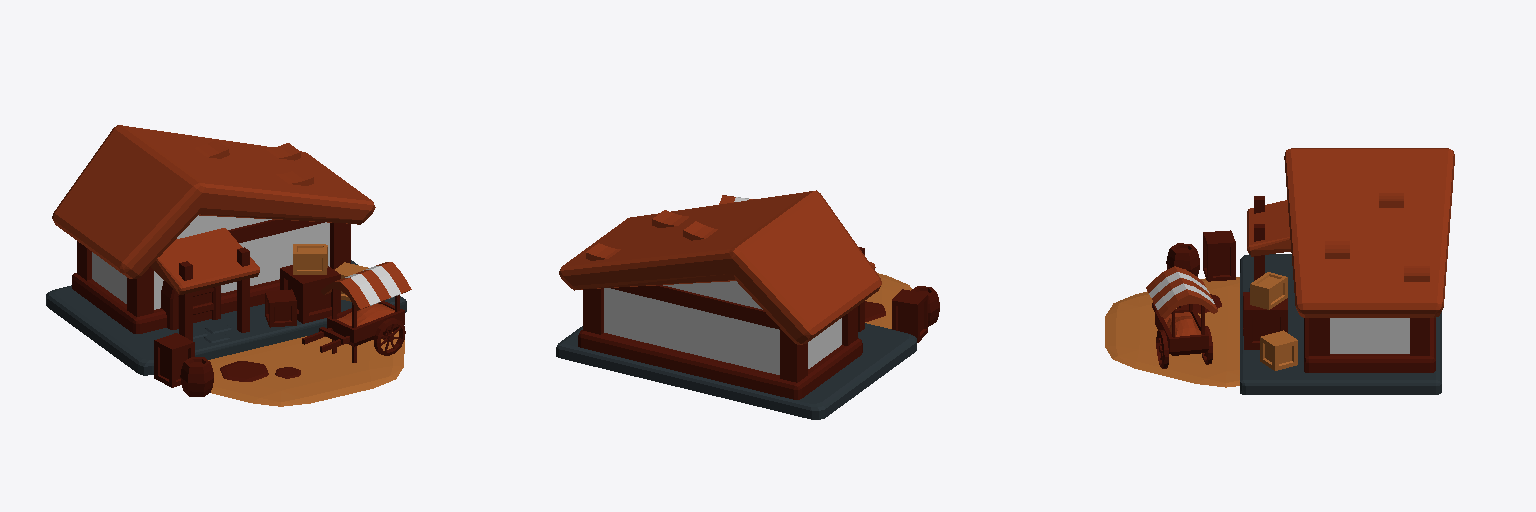
The model's file is market.obj.
3 renders of one model, left to right at view 1: azimuth 30°, elevation 25°; view 2: azimuth 150°, elevation 25°; view 3: azimuth 270°, elevation 25°, orthographic.
Parts seen in each view (by area): view 1: market_Cube.401; view 2: market_Cube.401; view 3: market_Cube.401.
Part boxes in pixels (x1,y1,x2,y2): market_Cube.401: (46, 125, 411, 406); market_Cube.401: (556, 190, 939, 419); market_Cube.401: (1105, 148, 1454, 394).
Size of the model in its own units: 1.47 by 0.8639 by 1.67.